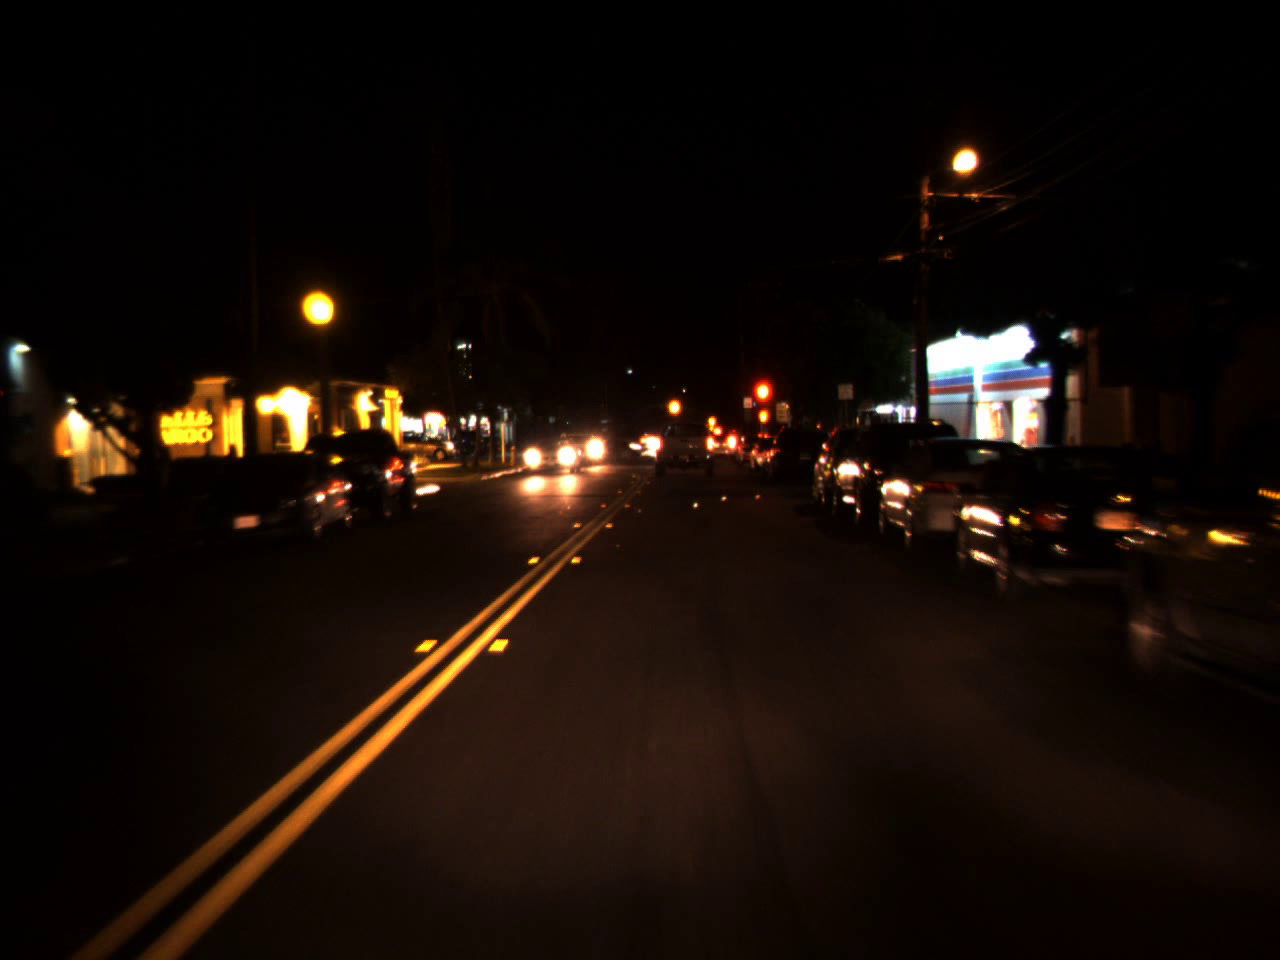stop: (749, 377, 776, 431)
warning: (665, 388, 683, 423), (707, 412, 717, 427)
